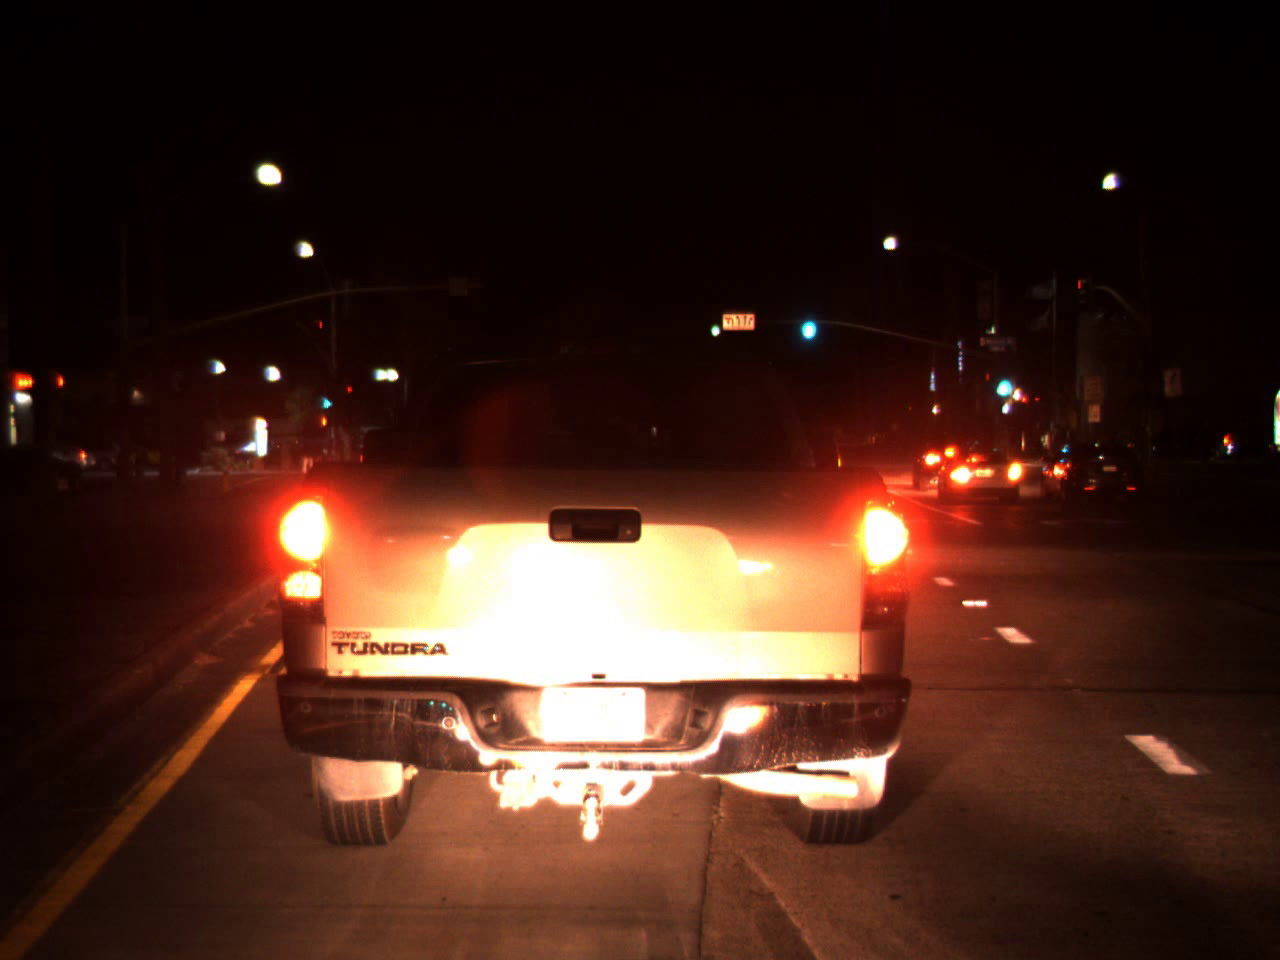go: (989, 358, 1016, 403), (795, 301, 820, 343), (708, 311, 720, 341), (321, 388, 334, 412)
